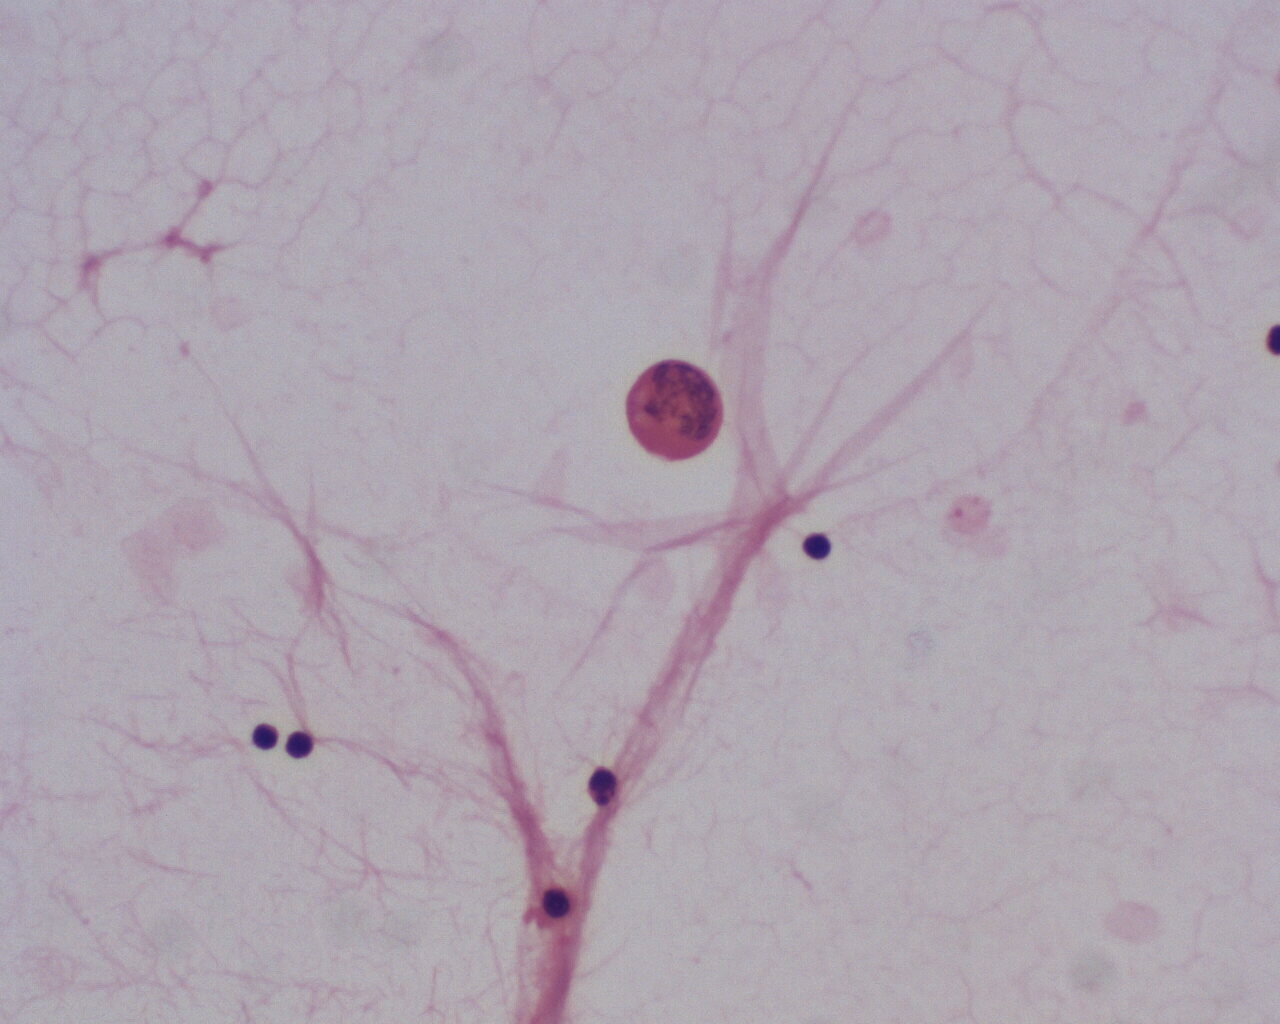ab: (622, 355, 727, 461)
lymph: (539, 880, 582, 925), (279, 725, 316, 761), (800, 530, 837, 562), (251, 721, 281, 752)
